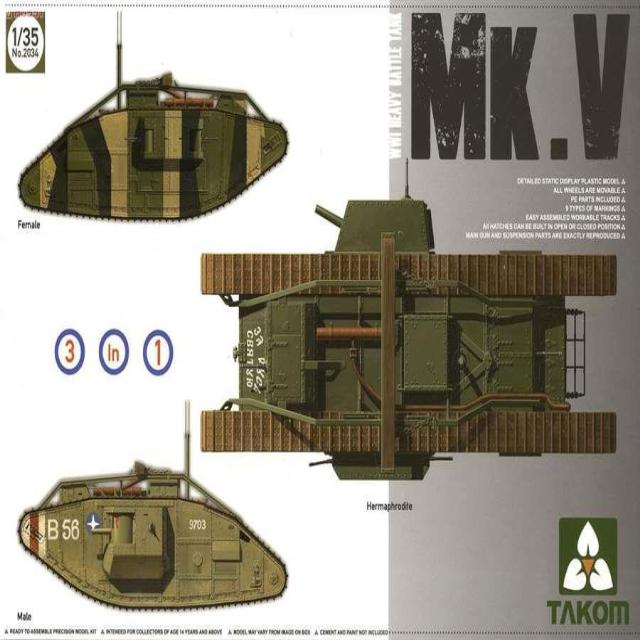Tanks: (194, 224, 624, 482), (26, 80, 302, 224), (25, 467, 281, 614)
